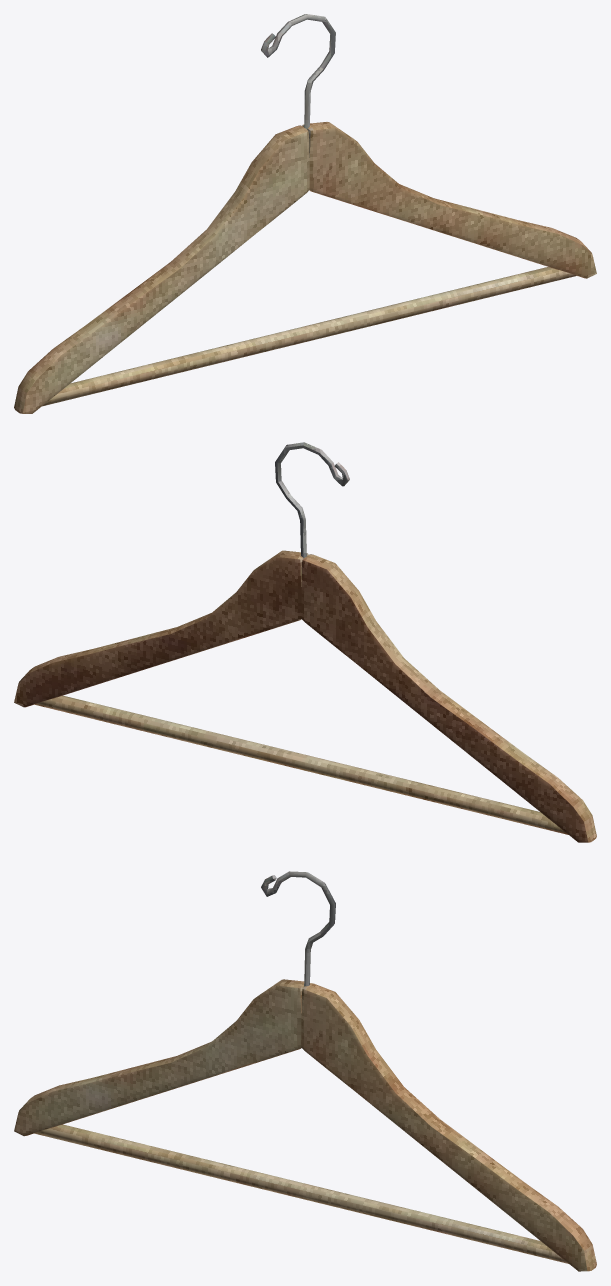
The model's file is gg_hanger_wood.glb.
3 views of the same model, one above another, from view 1: azimuth 30°, elevation 25°; view 2: azimuth 150°, elevation 25°; view 3: azimuth 330°, elevation 25° (orthographic).
Parts seen in each view (by area): view 1: mesh; view 2: mesh; view 3: mesh.
Part boxes in pixels (bbox=[...]): mesh: bbox=[14, 14, 596, 413]; mesh: bbox=[14, 442, 596, 842]; mesh: bbox=[14, 871, 596, 1271].
Size of the model in its own units: 0.4564 by 0.25 by 0.0135.
Materials: 1 (1 with a texture image).
